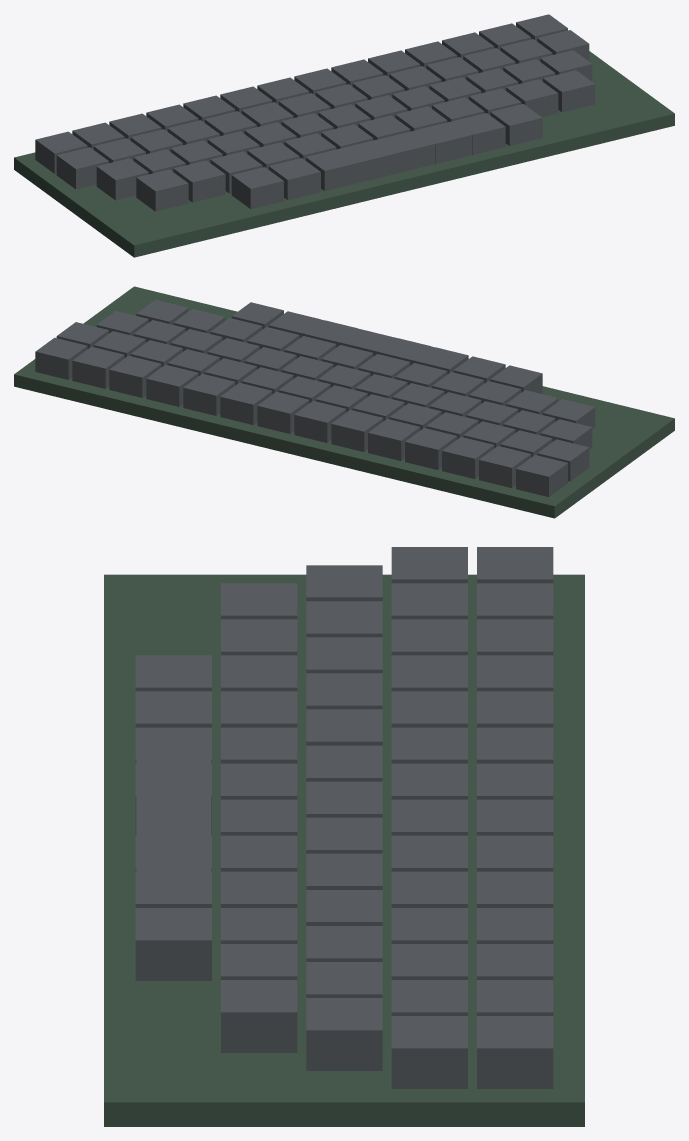
The model's file is keyboard-sb-60.glb.
3 renders of one model, top to bottom at view 1: azimuth 30°, elevation 25°; view 2: azimuth 150°, elevation 25°; view 3: azimuth 270°, elevation 25°, orthographic. The views are drawn at different scales.
Parts seen in each view (by area): view 1: geometry_0, geometry_58, geometry_42, geometry_54, geometry_29, geometry_15, geometry_43, geometry_61, geometry_53, geometry_55, geometry_56, geometry_60 (+50 smaller); view 2: geometry_0, geometry_58, geometry_1, geometry_12, geometry_13, geometry_14, geometry_9, geometry_10, geometry_11, geometry_7, geometry_8, geometry_2 (+49 smaller); view 3: geometry_0, geometry_58, geometry_14, geometry_28, geometry_41, geometry_53, geometry_61, geometry_5, geometry_19, geometry_29, geometry_30, geometry_31 (+49 smaller).
Part boxes in pixels (x1=…): geometry_0: x1=14, y1=51, x2=674, y2=257; geometry_58: x1=339, y1=121, x2=473, y2=182; geometry_42: x1=136, y1=169, x2=188, y2=211; geometry_54: x1=231, y1=167, x2=283, y2=209; geometry_29: x1=96, y1=158, x2=148, y2=200; geometry_15: x1=56, y1=147, x2=108, y2=189; geometry_43: x1=173, y1=160, x2=225, y2=202; geometry_61: x1=490, y1=104, x2=542, y2=145; geometry_53: x1=543, y1=70, x2=595, y2=112; geometry_55: x1=268, y1=158, x2=320, y2=200; geometry_56: x1=305, y1=149, x2=357, y2=190; geometry_60: x1=454, y1=113, x2=505, y2=155; geometry_0: x1=14, y1=286, x2=674, y2=518; geometry_58: x1=301, y1=319, x2=436, y2=363; geometry_1: x1=516, y1=455, x2=567, y2=496; geometry_12: x1=109, y1=355, x2=161, y2=397; geometry_13: x1=72, y1=346, x2=124, y2=388; geometry_14: x1=35, y1=337, x2=87, y2=379; geometry_9: x1=220, y1=382, x2=272, y2=424; geometry_10: x1=183, y1=373, x2=235, y2=415; geometry_11: x1=146, y1=364, x2=198, y2=406; geometry_7: x1=294, y1=401, x2=346, y2=442; geometry_8: x1=257, y1=392, x2=309, y2=433; geometry_2: x1=479, y1=446, x2=531, y2=487; geometry_0: x1=104, y1=574, x2=584, y2=1126; geometry_58: x1=136, y1=758, x2=211, y2=873; geometry_14: x1=477, y1=1016, x2=553, y2=1088; geometry_28: x1=391, y1=1016, x2=467, y2=1088; geometry_41: x1=306, y1=998, x2=382, y2=1070; geometry_53: x1=221, y1=980, x2=297, y2=1052; geometry_61: x1=135, y1=908, x2=211, y2=980; geometry_5: x1=477, y1=691, x2=553, y2=727; geometry_19: x1=391, y1=691, x2=467, y2=727; geometry_29: x1=306, y1=565, x2=382, y2=601; geometry_30: x1=306, y1=601, x2=382, y2=637; geometry_31: x1=306, y1=637, x2=382, y2=673.
Size of the model in its own units: 0.278 by 0.016 by 0.107.
